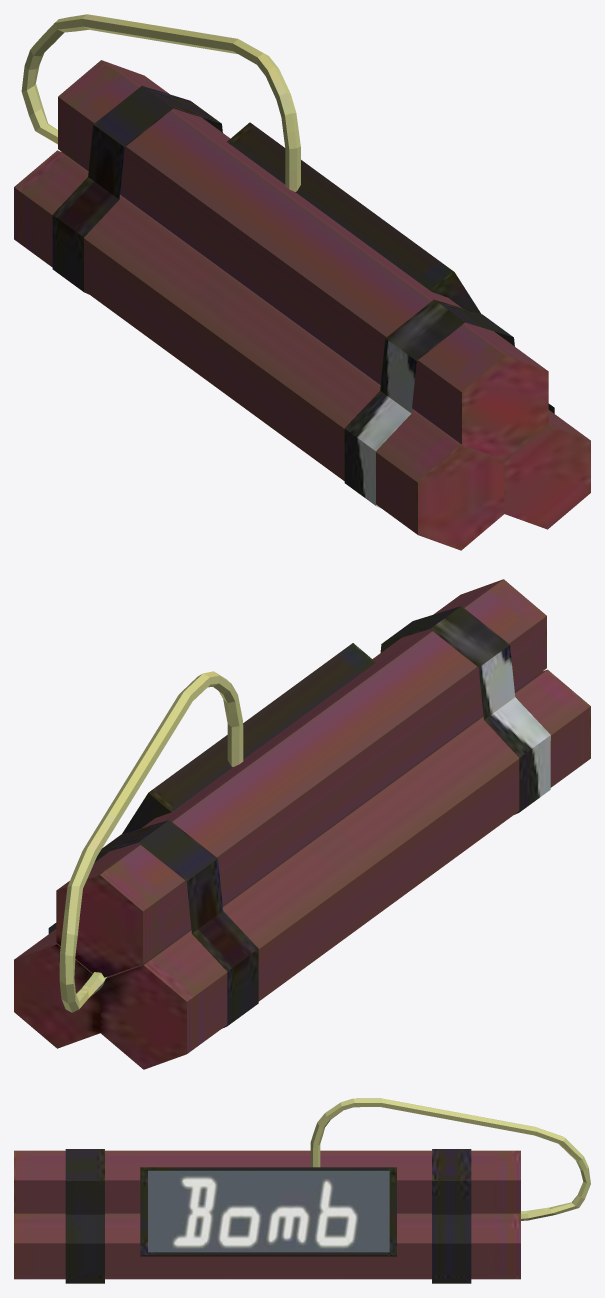
The model's file is Bomba.fbx.
3 views of the same model, one above another, from view 1: azimuth 30°, elevation 25°; view 2: azimuth 150°, elevation 25°; view 3: azimuth 270°, elevation 25° (orthographic). The views are drawn at different scales.
Visible parts, largest first — view 1: Bomb; view 2: Bomb; view 3: Bomb.
Boxes of the visible parts, x1,y1,x2,y2 form: Bomb: [14, 14, 590, 550]; Bomb: [14, 579, 590, 1069]; Bomb: [14, 1098, 590, 1283].
Size of the model in its own units: 64.16 by 88.32 by 257.
